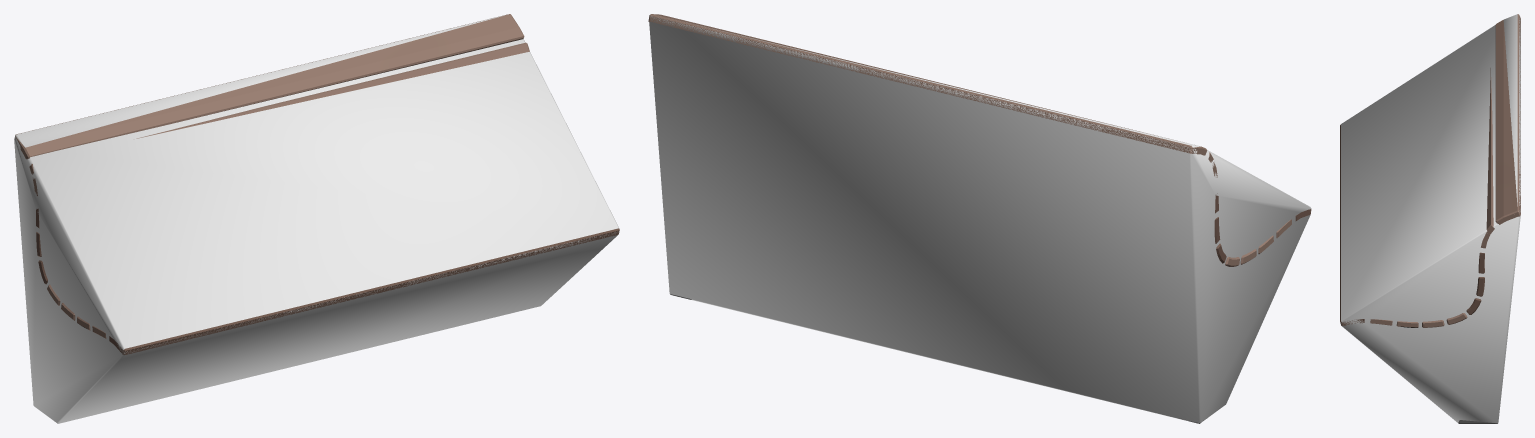
3 views of the same model, side by side, from view 1: azimuth 30°, elevation 25°; view 2: azimuth 150°, elevation 25°; view 3: azimuth 270°, elevation 25° (orthographic). The views are drawn at different scales.
Visible parts, largest first — view 1: struct_street_bench_base_01_col, struct_street_bench_base_01; view 2: struct_street_bench_base_01_col, struct_street_bench_base_01; view 3: struct_street_bench_base_01_col, struct_street_bench_base_01.
Boxes of the visible parts, x1,y1,x2,y2 form: struct_street_bench_base_01_col: (14,15,619,423); struct_street_bench_base_01: (14,14,619,354); struct_street_bench_base_01_col: (649,16,1311,423); struct_street_bench_base_01: (648,14,1311,423); struct_street_bench_base_01_col: (1340,14,1520,423); struct_street_bench_base_01: (1340,14,1520,423).
Bounding box in the file's own units: 1.91 × 0.9732 × 0.7392.
2 materials, 2 textured.
